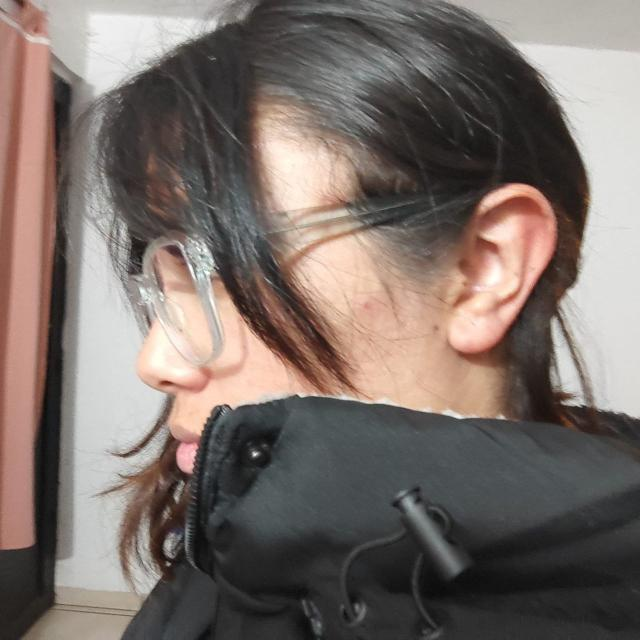ear: (449, 184, 558, 353)
